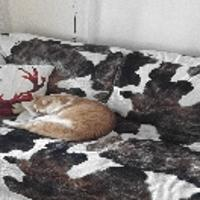asleep: (3, 92, 116, 140)
